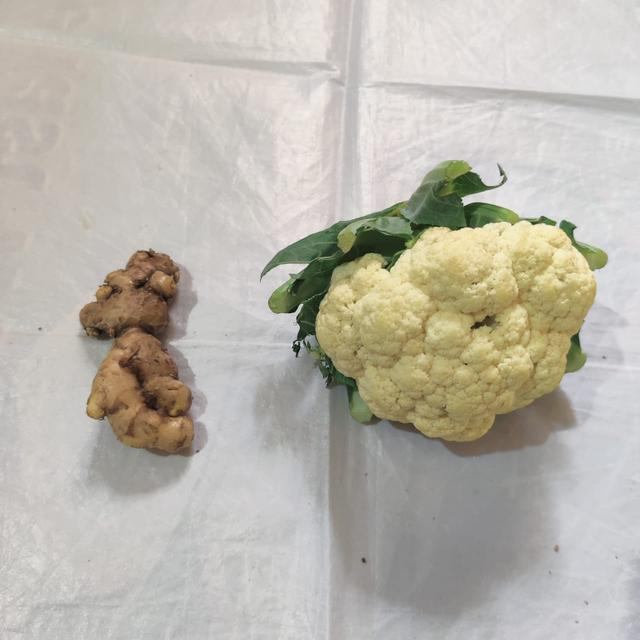Organik: (254, 151, 632, 472), (70, 208, 224, 484)
